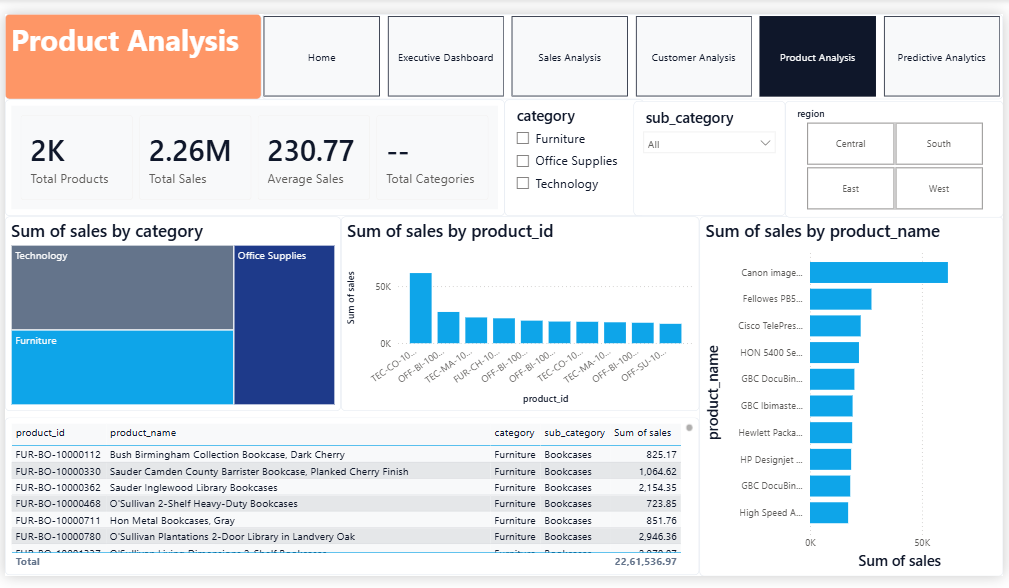

What the dashboard file says about the page in this screenshot:
{"tool":"powerbi","page":{"name":"Product Analysis","canvas":[1280,720],"ordinal":4},"visuals":[{"type":"textbox","box":[0,0,328.8,109.6],"z":0},{"type":"pageNavigator","box":[328.8,0,950.6,109.6],"z":1000},{"type":"cardVisual","fields":{"Data":["public orders.Total Products","public orders.Total Sales","public orders.Average Sales","public orders.Total Categories"]},"box":[0,109.6,640.6,149.3],"z":2000},{"type":"treemap","fields":{"Group":["public orders.category"],"Values":["Sum(public orders.sales)"]},"box":[0,258.9,430.9,249.5],"z":3000},{"type":"tableEx","fields":{"Values":["public orders.product_id","public orders.product_name","public orders.category","public orders.sub_category","Sum(public orders.sales)"]},"box":[0,517.8,890.1,202.2],"z":4000},{"type":"clusteredColumnChart","fields":{"Category":["public orders.product_id"],"Y":["Sum(public orders.sales)"]},"box":[430.9,258.9,459.2,249.5],"z":5000},{"type":"clusteredBarChart","fields":{"Category":["public orders.product_name"],"Y":["Sum(public orders.sales)"]},"box":[890.1,258.9,389.3,461.1],"z":6000},{"type":"slicer","fields":{"Values":["public orders.category"]},"box":[640.6,109.6,179.5,149.3],"z":7000},{"type":"slicer","fields":{"Values":["public orders.region"]},"box":[999.7,111.5,279.7,149.3],"z":9000},{"type":"slicer","fields":{"Values":["public orders.sub_category"]},"box":[805,111.5,194.6,147.4],"z":9001}]}

Visuals, with their boxes on the page's 1280x720 design canvas (x1, y1, x2, y2). These are canvas units, not pixel positions in the 1009x588 screenshot, which may show the page scaled, cropped or inside an application window:
textbox: box(0, 0, 329, 110)
pageNavigator: box(329, 0, 1279, 110)
cardVisual - public orders.Total Products x public orders.Total Sales: box(0, 110, 641, 259)
treemap - public orders.category x Sum(public orders.sales): box(0, 259, 431, 508)
tableEx - public orders.product_id x public orders.product_name: box(0, 518, 890, 720)
clusteredColumnChart - public orders.product_id x Sum(public orders.sales): box(431, 259, 890, 508)
clusteredBarChart - public orders.product_name x Sum(public orders.sales): box(890, 259, 1279, 720)
slicer - public orders.category: box(641, 110, 820, 259)
slicer - public orders.region: box(1000, 112, 1279, 261)
slicer - public orders.sub_category: box(805, 112, 1000, 259)
